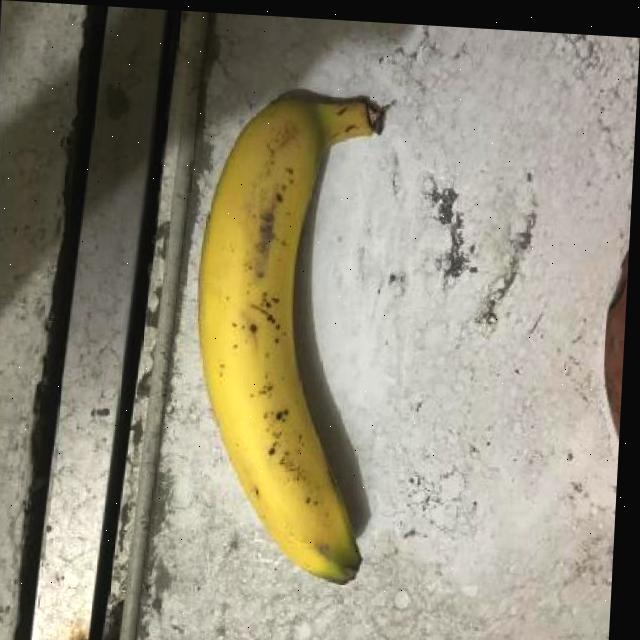banana: (182, 81, 397, 594)
